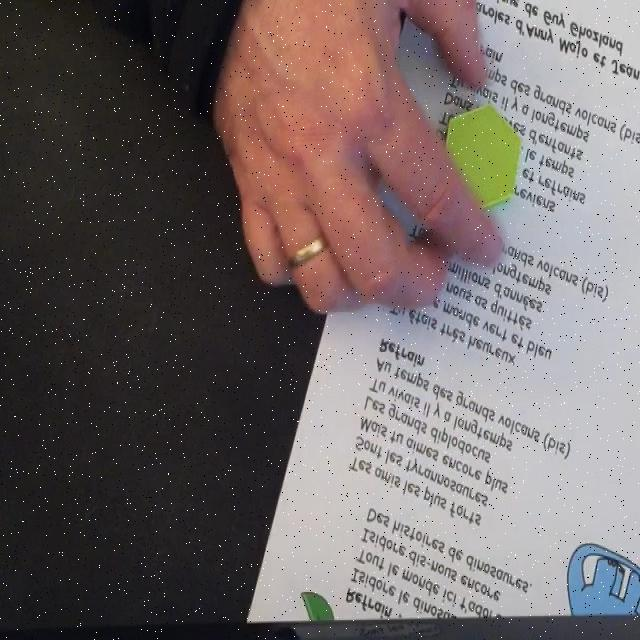hexagon: (439, 101, 523, 210)
